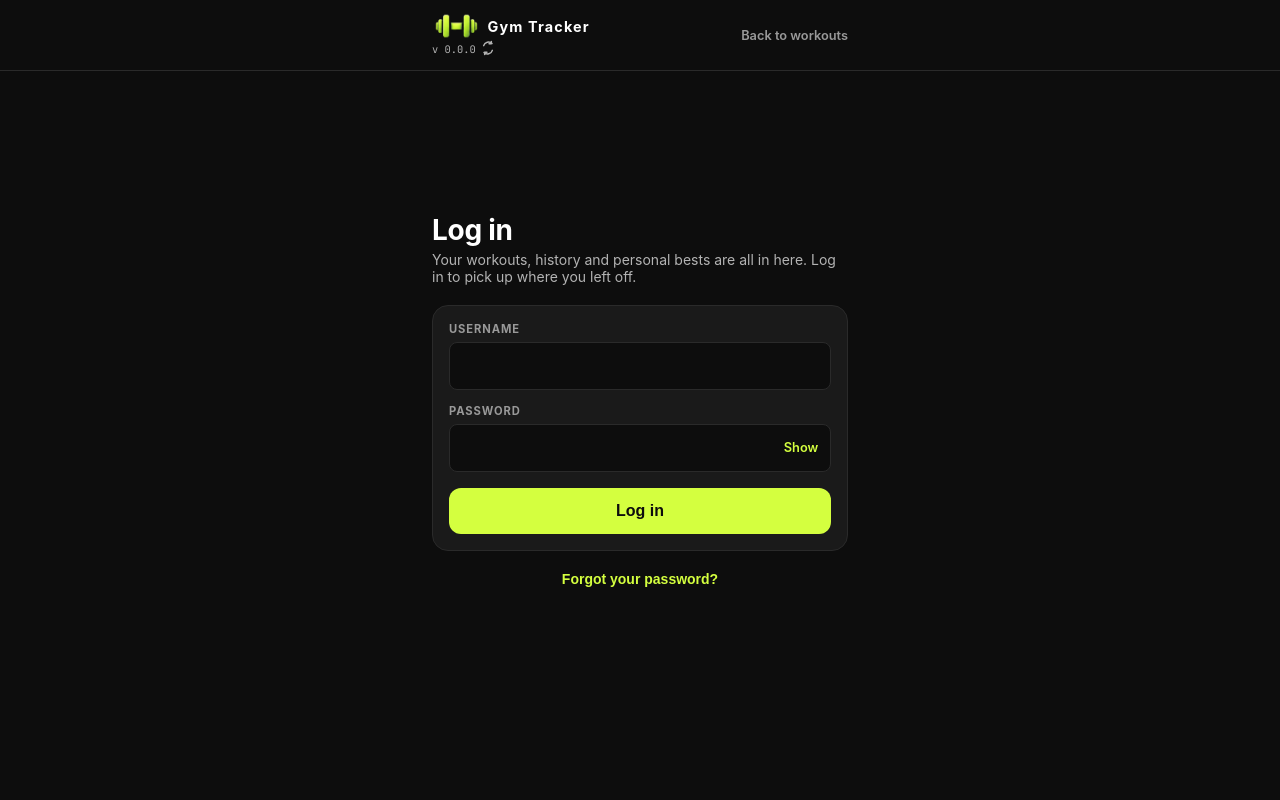
Test: auth screens are chrome-free › brings the nav straight back on the way out, for a session that has one
Expected: the field labelled "Username" is shown, left=449, top=342, right=831, bottom=390
Click the link "Back to workouts" at (795, 35), box left=741, top=28, right=848, bottom=43
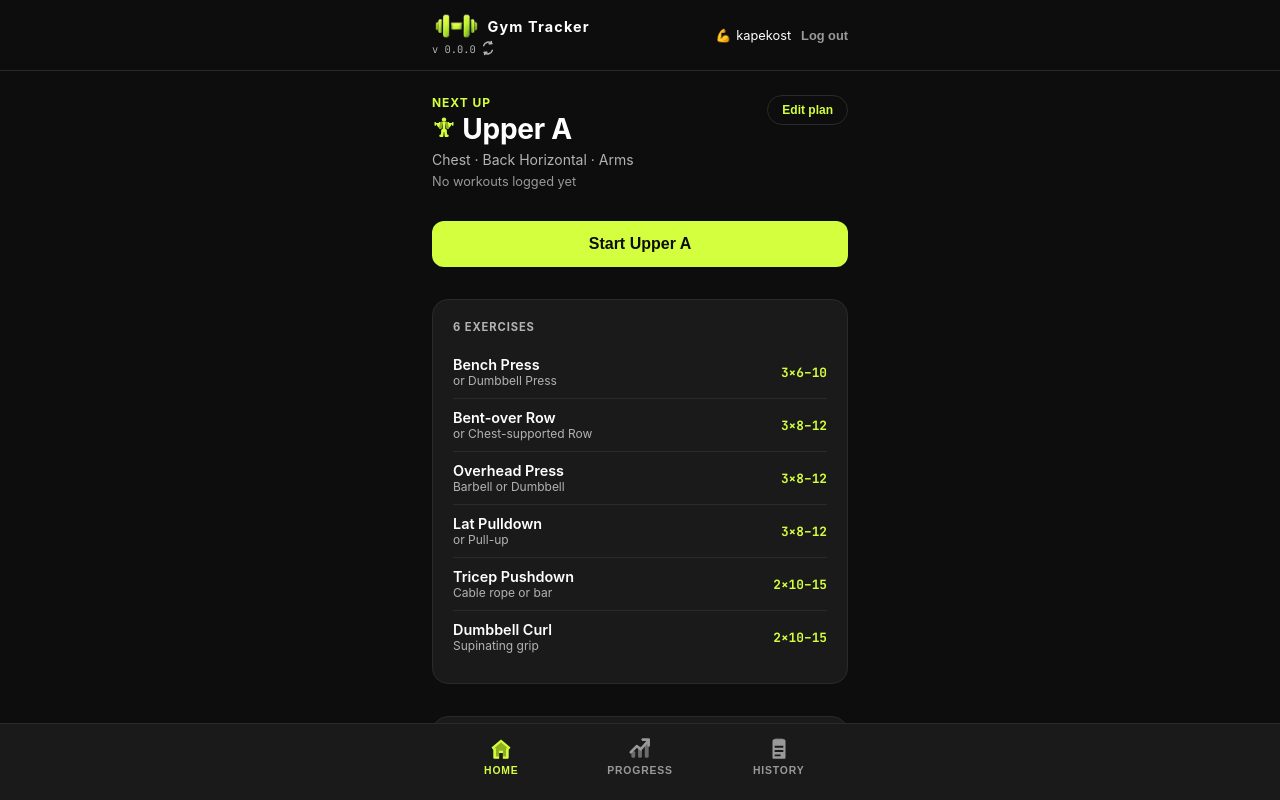
Expected: the button "History" is shown, left=709, top=732, right=848, bottom=780
Now the text "Next up" is shown, box left=432, top=95, right=491, bottom=110
